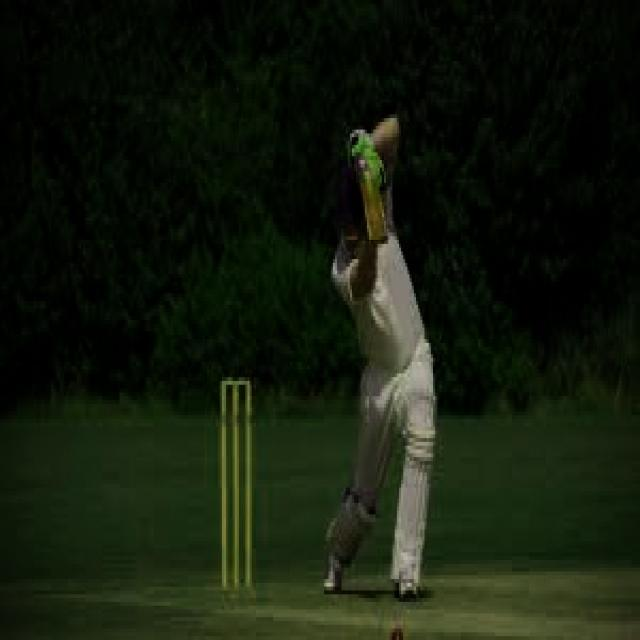bat: (345, 138, 400, 266)
